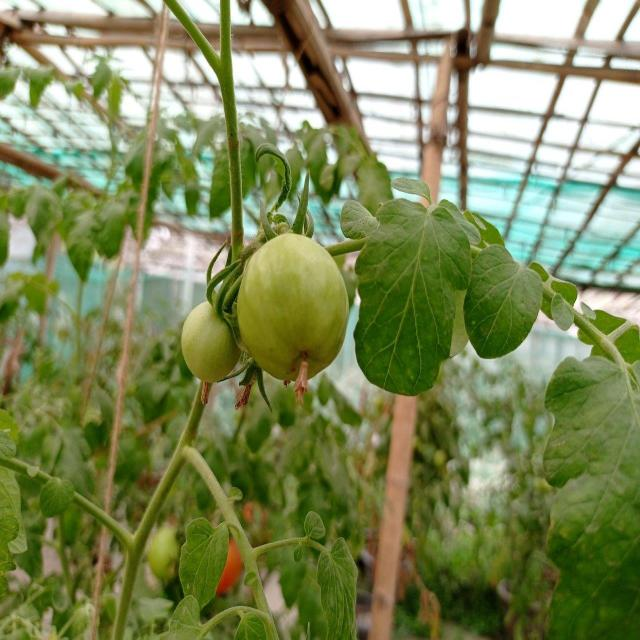Unripe: (236, 232, 350, 380), (182, 303, 239, 382)
